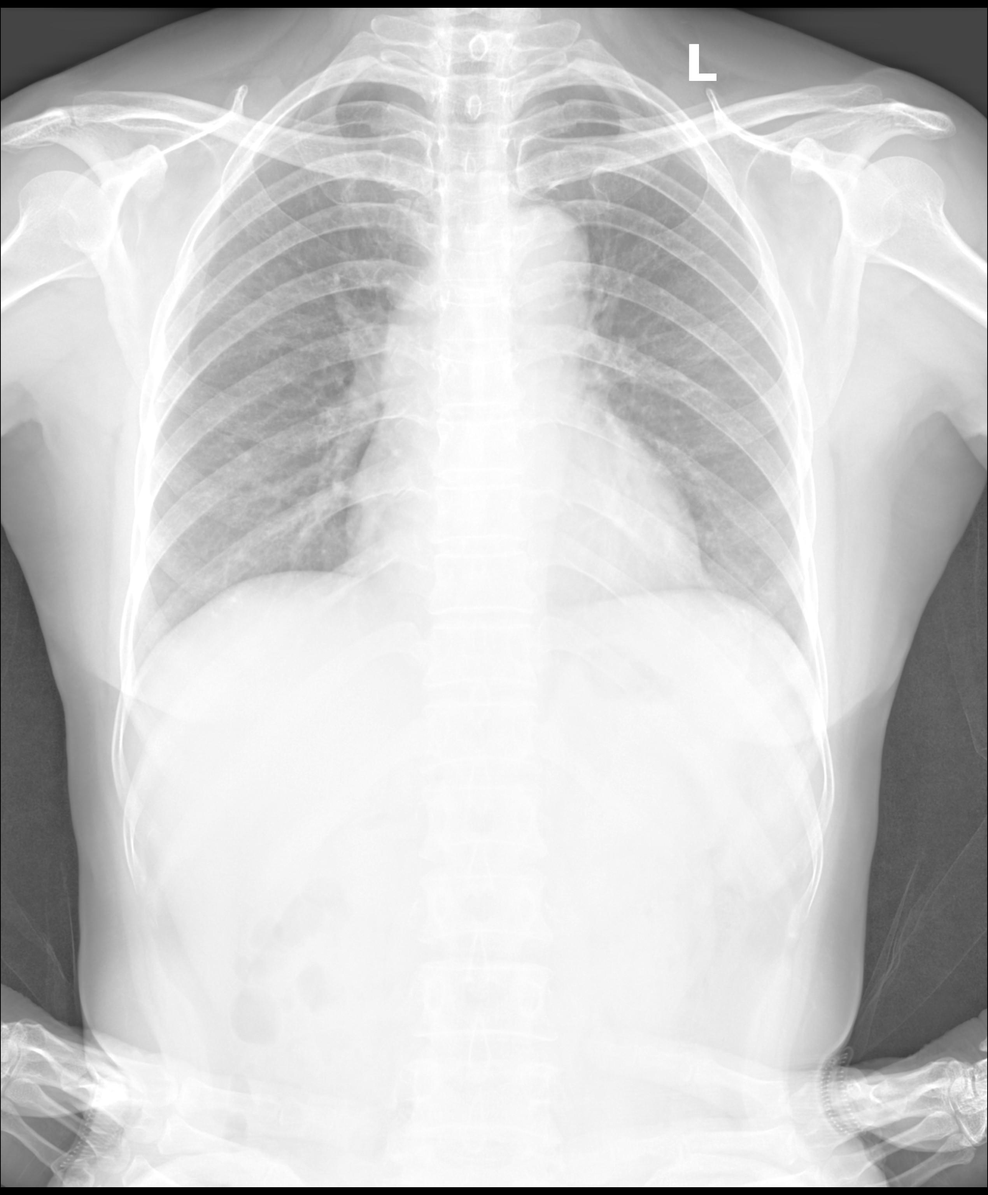Aortic enlargement: (491, 193, 590, 325)
